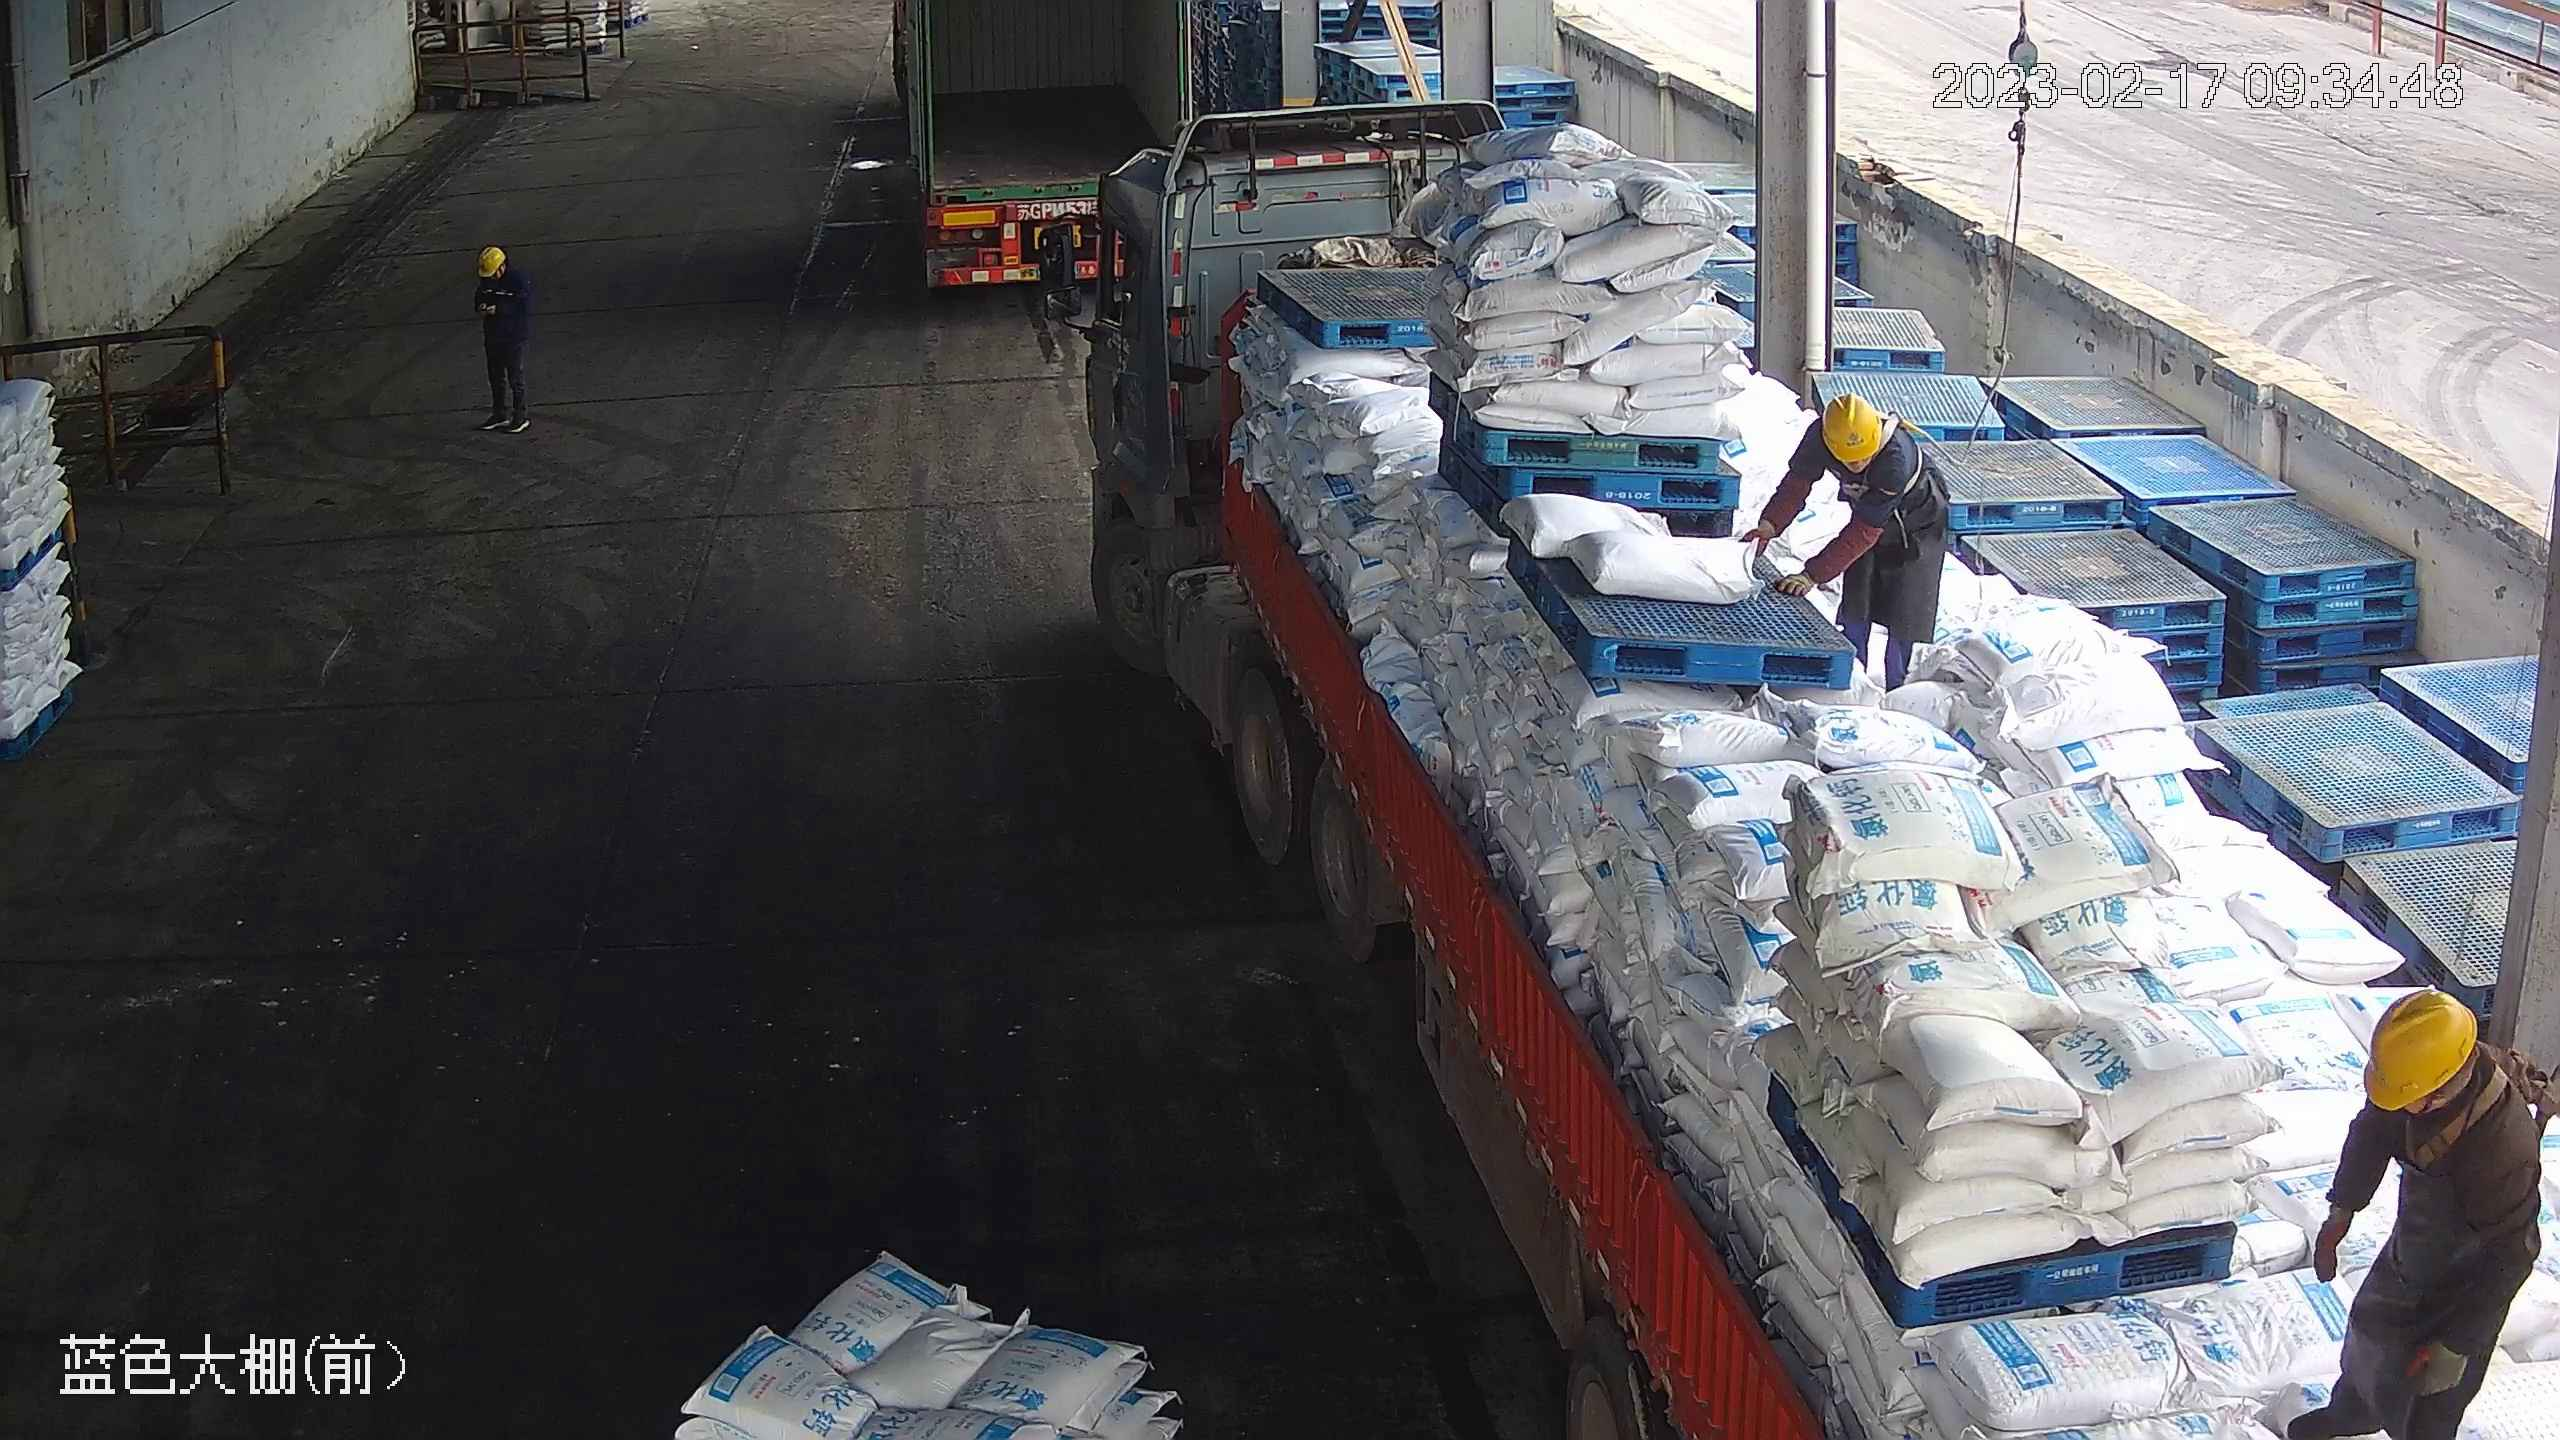belt: (2412, 1032, 2541, 1159), (1852, 403, 1917, 499)
head: (2331, 990, 2543, 1187), (1800, 390, 1926, 490), (473, 246, 529, 300)
helmet: (2355, 986, 2484, 1109), (1817, 389, 1883, 462), (474, 246, 503, 274)
people: (2296, 988, 2542, 1439), (1742, 386, 1953, 692), (472, 245, 534, 435)
truck: (1044, 93, 2550, 1437), (884, 1, 1195, 295)
